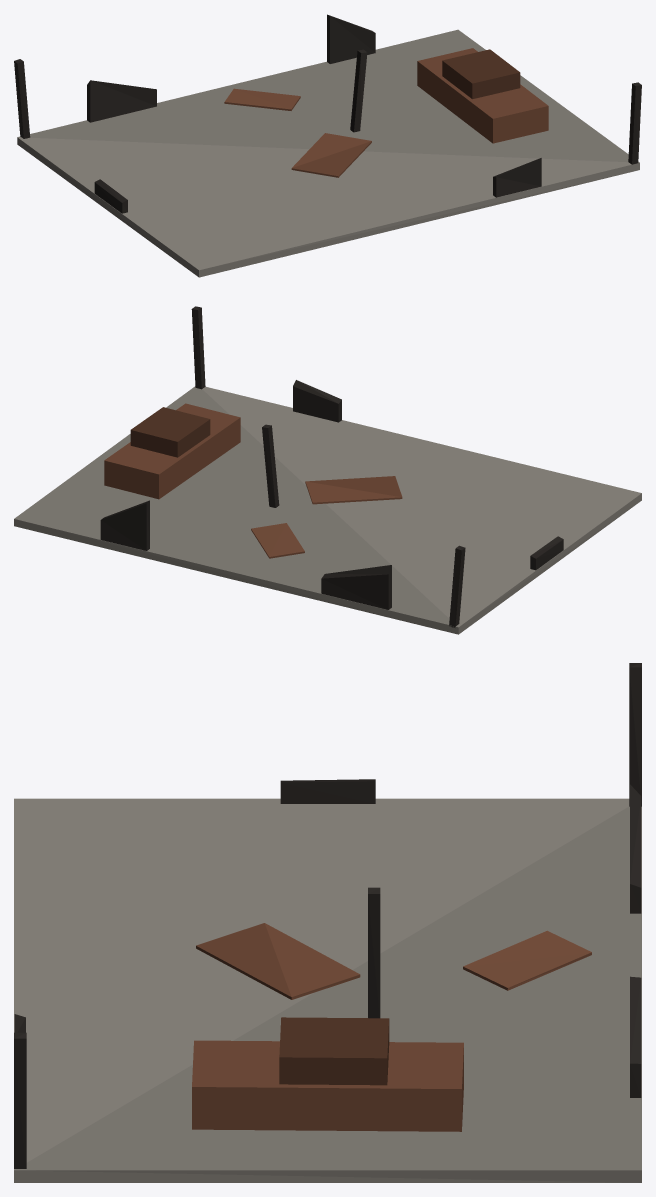
The model's file is ruin_14x10_lod1.glb.
The picture shows the model from 3 angles, top to bottom: view 1: azimuth 30°, elevation 25°; view 2: azimuth 150°, elevation 25°; view 3: azimuth 270°, elevation 25°; orthographic projection. The views are drawn at different scales.
Parts seen in each view (by area): view 1: ruin; view 2: ruin; view 3: ruin.
Part boxes in pixels (<box>): ruin: <box>14,14,641,277</box>; ruin: <box>14,306,641,634</box>; ruin: <box>14,663,641,1182</box>.
Bounding box in the file's own units: 14.16 × 2.57 × 10.
